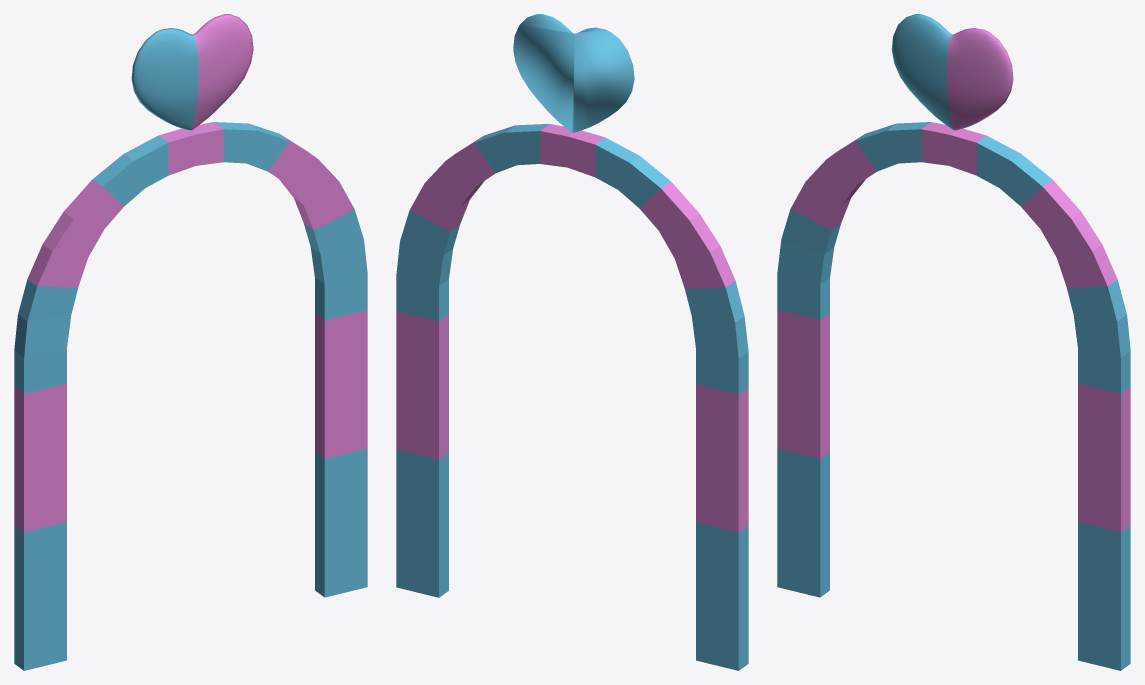
Rendered from Gate_3.fbx.
The picture shows the model from 3 angles, left to right: view 1: azimuth 30°, elevation 25°; view 2: azimuth 150°, elevation 25°; view 3: azimuth 330°, elevation 25°; orthographic projection.
Parts seen in each view (by area): view 1: Gate_3; view 2: Gate_3; view 3: Gate_3.
Part boxes in pixels (<box>): Gate_3: <box>14,14,367,670</box>; Gate_3: <box>396,14,748,670</box>; Gate_3: <box>777,14,1130,670</box>.
Size of the model in its own units: 400 by 673 by 24.73.
